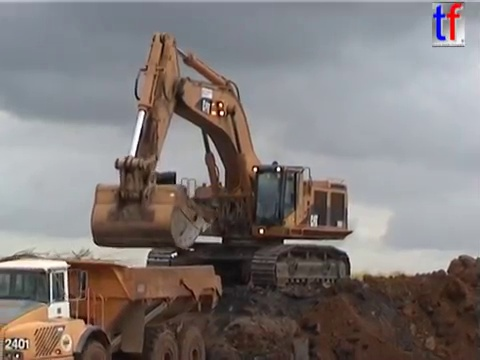excavator: (87, 29, 357, 300)
truck: (1, 252, 224, 360)
